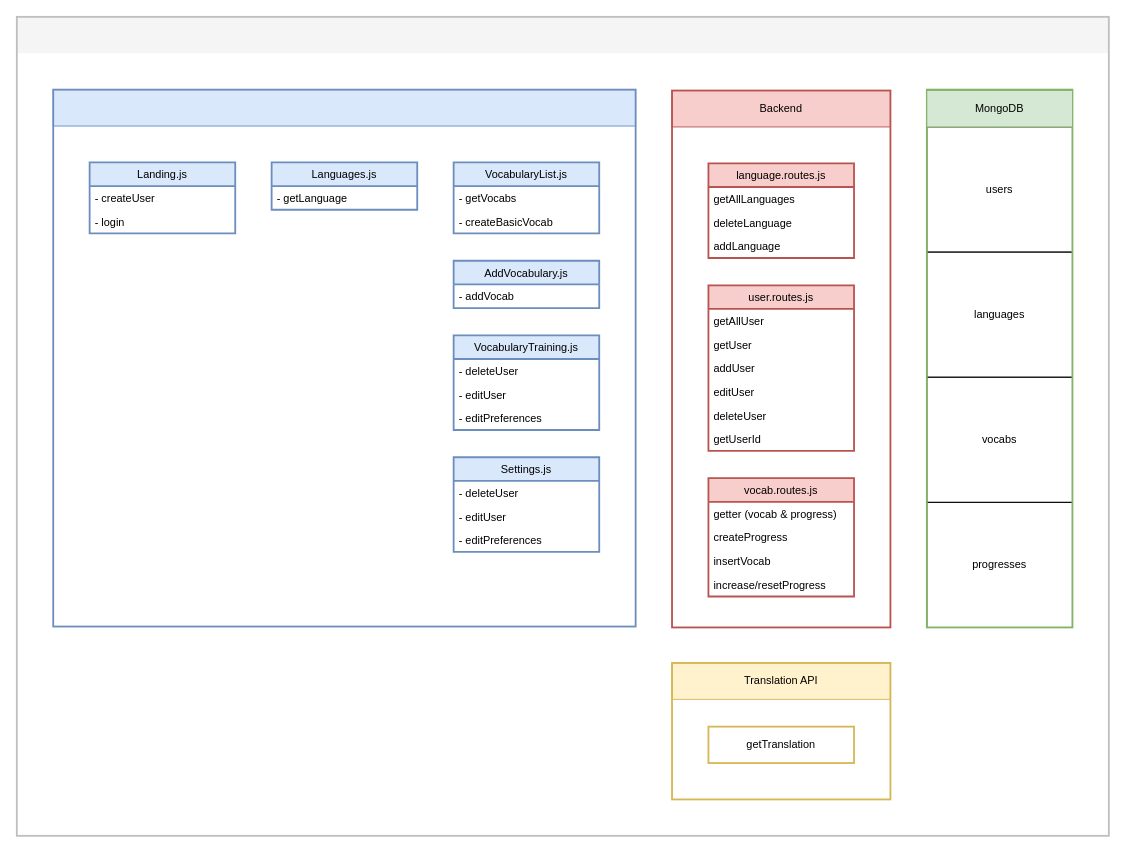
Some shapes in this 1125 by 852 pixel diagram are drawn without their labels. Here are the shapes that lost their labels. From the top down, the centre of each, then its label:
[562,34]: Vocabulary Trainer
[344,107]: Frontend
